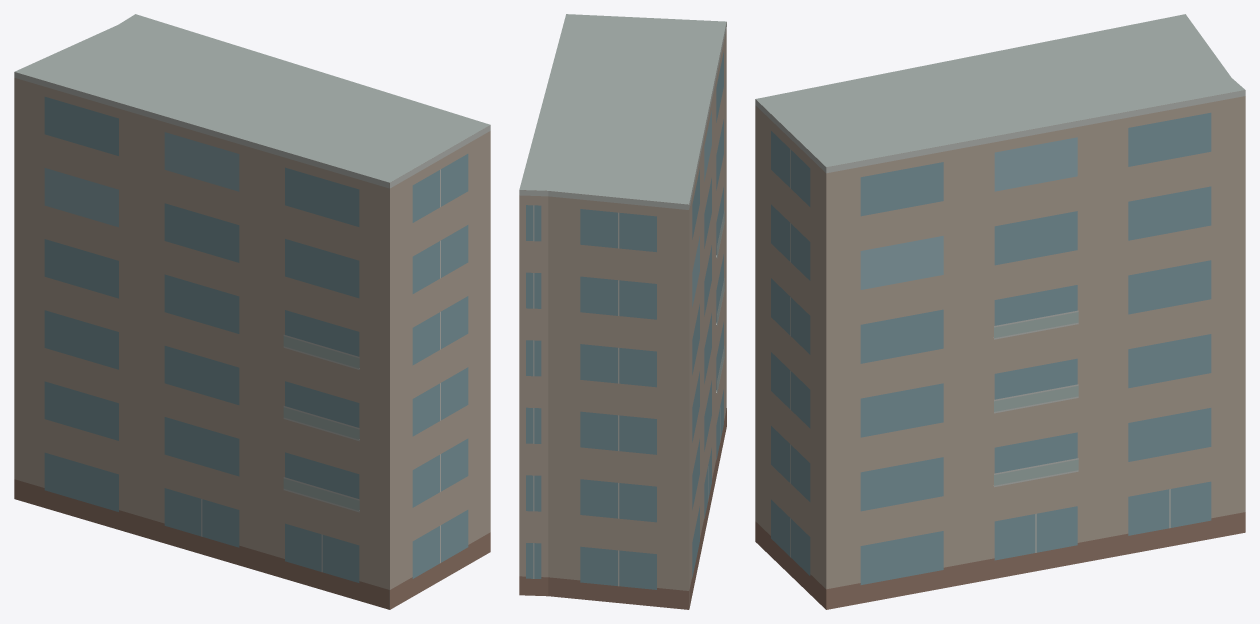
File: survey-upis-32729249.glb
3 views of the same model, side by side, from view 1: azimuth 30°, elevation 25°; view 2: azimuth 150°, elevation 25°; view 3: azimuth 270°, elevation 25° (orthographic). The views are drawn at different scales.
Parts seen in each view (by area): view 1: survey-upis-32729249.tmp; view 2: survey-upis-32729249.tmp; view 3: survey-upis-32729249.tmp.
Boxes of the visible parts, box(x1,y1,x2,y2) form: survey-upis-32729249.tmp: box(14, 14, 490, 609); survey-upis-32729249.tmp: box(519, 14, 726, 609); survey-upis-32729249.tmp: box(755, 14, 1245, 609).
Size of the model in its own units: 13.23 by 17.8 by 17.87.
